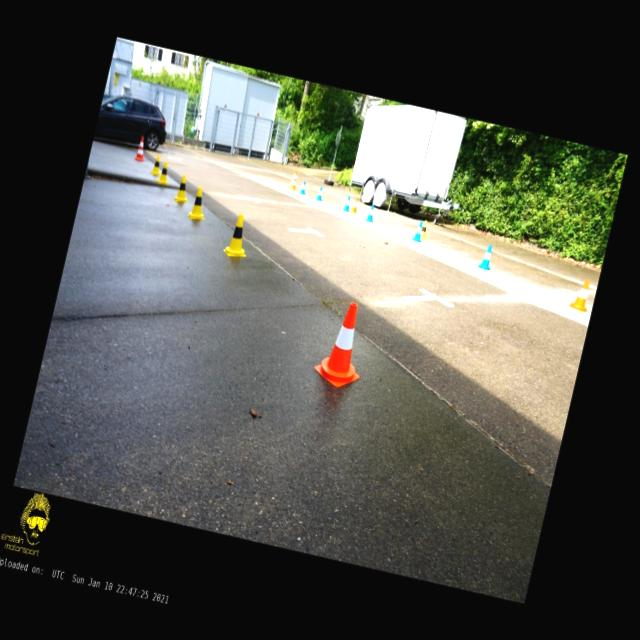blue_cone: (476, 243, 494, 270), (412, 220, 425, 242), (364, 203, 376, 222), (342, 195, 352, 212), (314, 184, 324, 200), (298, 180, 308, 194)
large_orange_cone: (134, 135, 148, 161), (288, 168, 300, 190)
orange_cone: (310, 297, 374, 391), (568, 277, 594, 312), (350, 196, 360, 213)
yellow_cone: (222, 212, 254, 260), (187, 186, 210, 220), (173, 174, 192, 203), (156, 160, 172, 184), (150, 156, 163, 176), (418, 218, 429, 240)
